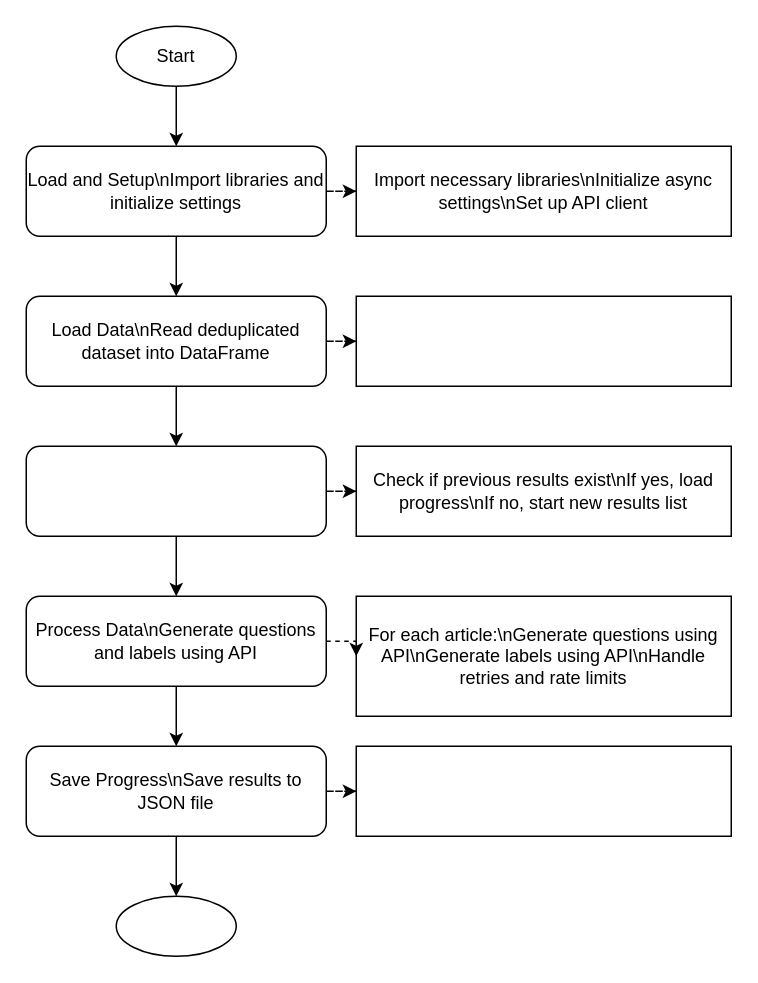
Some shapes in this 758 by 983 pixel diagram are drawn without their labels. The centre of each missing label's shape, as x and y in pixels:
"End" goes at [175,925].
"Initialize Results\nLoad progress from JSON or start new" goes at [175,490].
"Load deduplicated dataset\nfrom JSON file into\nPandas DataFrame" goes at [543,340].
"Save results to JSON file\nPeriodically save progress" goes at [543,790].
